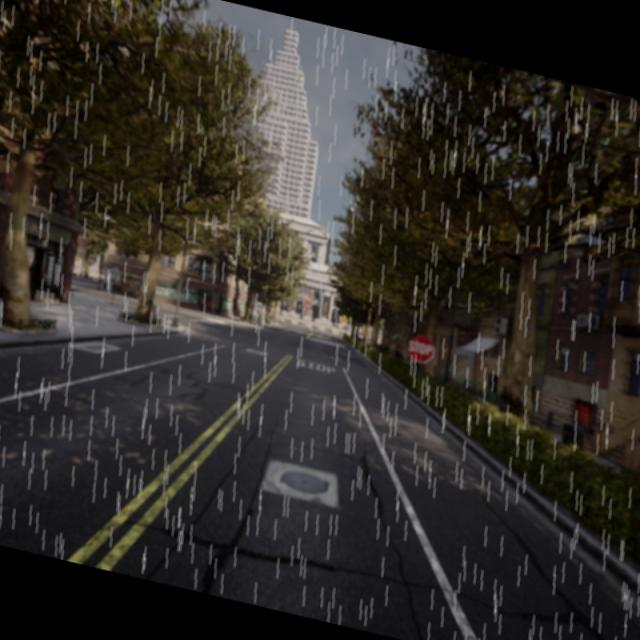stop sign: (405, 332, 437, 366)
